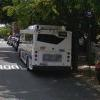Bus: (16, 19, 75, 76)
